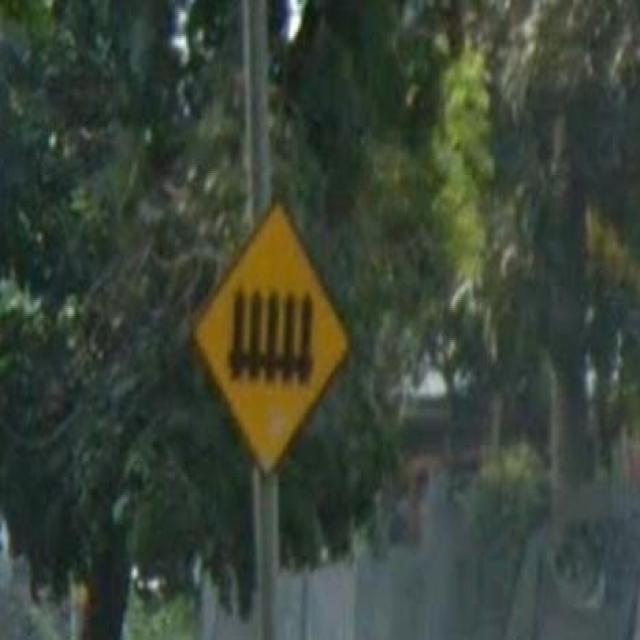traffic sign: (205, 213, 347, 462)
